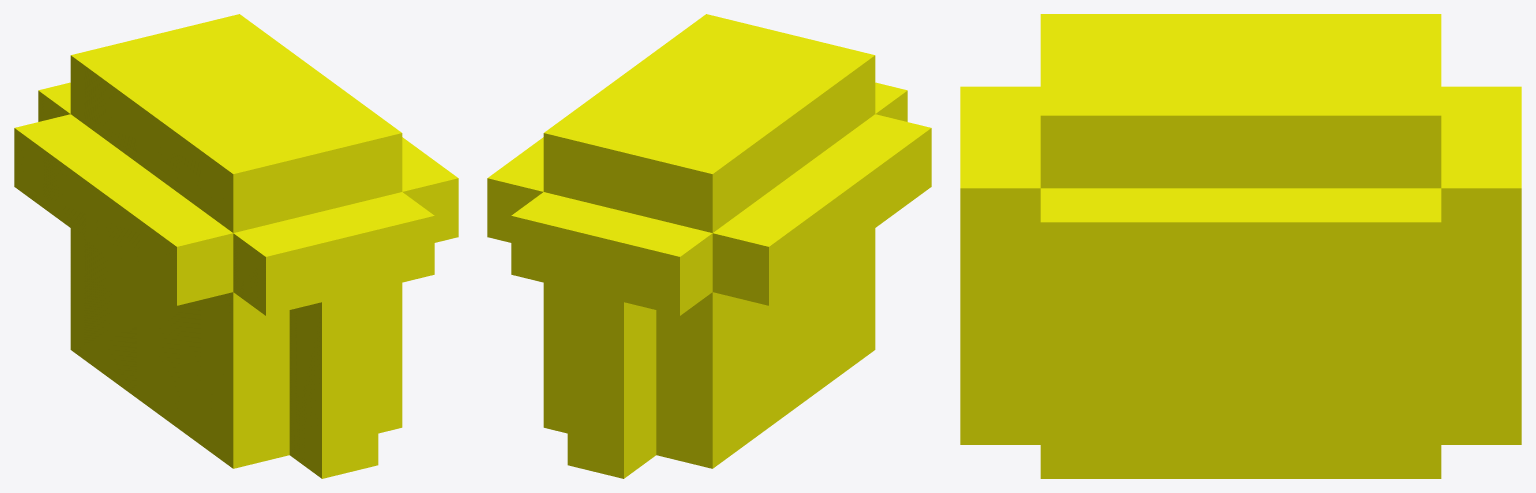
Rendered from voxel-village-bread-loaf.glb.
The picture shows the model from 3 angles, left to right: view 1: azimuth 30°, elevation 25°; view 2: azimuth 150°, elevation 25°; view 3: azimuth 270°, elevation 25°; orthographic projection. The views are drawn at different scales.
Parts seen in each view (by area): view 1: VS_Villagers_BreadLoaf; view 2: VS_Villagers_BreadLoaf; view 3: VS_Villagers_BreadLoaf.
Boxes of the visible parts, <box> form: VS_Villagers_BreadLoaf: <box>14,14,458,478</box>; VS_Villagers_BreadLoaf: <box>487,14,931,478</box>; VS_Villagers_BreadLoaf: <box>960,14,1521,478</box>.
Size of the model in its own units: 0.5 by 0.5 by 0.7.
